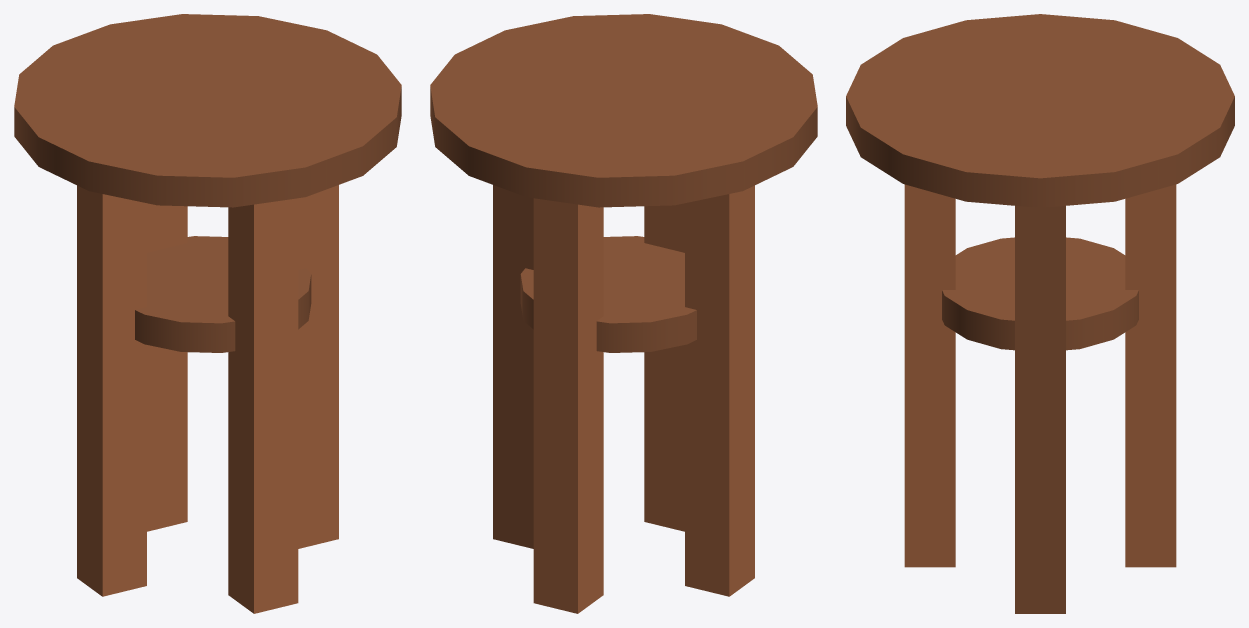
Rendered from SM_SmallTable_001.fbx.
3 views of the same model, side by side, from view 1: azimuth 30°, elevation 25°; view 2: azimuth 150°, elevation 25°; view 3: azimuth 270°, elevation 25° (orthographic).
Visible parts, largest first — view 1: Salontafeltje; view 2: Salontafeltje; view 3: Salontafeltje.
Boxes of the visible parts, left/top/right/bottom form: Salontafeltje: left=14, top=14, right=401, bottom=613; Salontafeltje: left=430, top=14, right=817, bottom=613; Salontafeltje: left=846, top=14, right=1234, bottom=613.
Bounding box in the file's own units: 0.2615 × 0.3415 × 0.2615.
